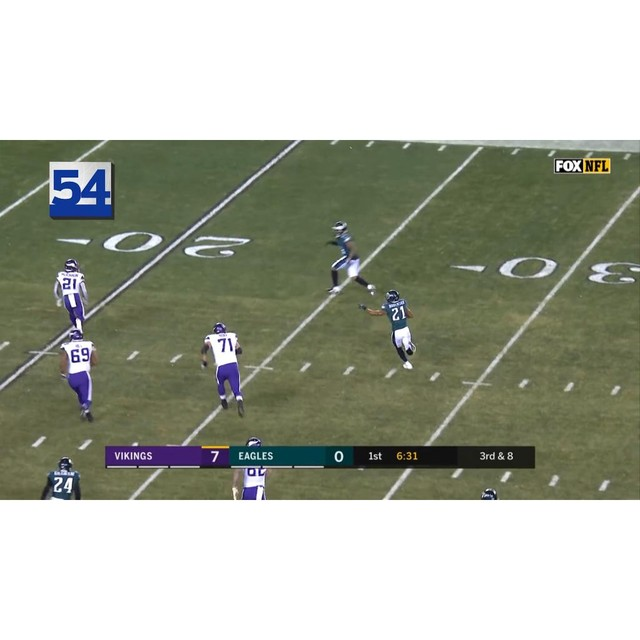american-football-player: (359, 289, 417, 370), (200, 322, 245, 416), (58, 327, 100, 422), (326, 221, 376, 298), (54, 258, 90, 335), (229, 435, 268, 500), (39, 456, 84, 500)
